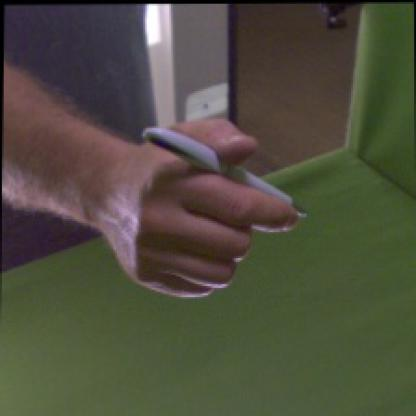Hand: (103, 118, 302, 298)
